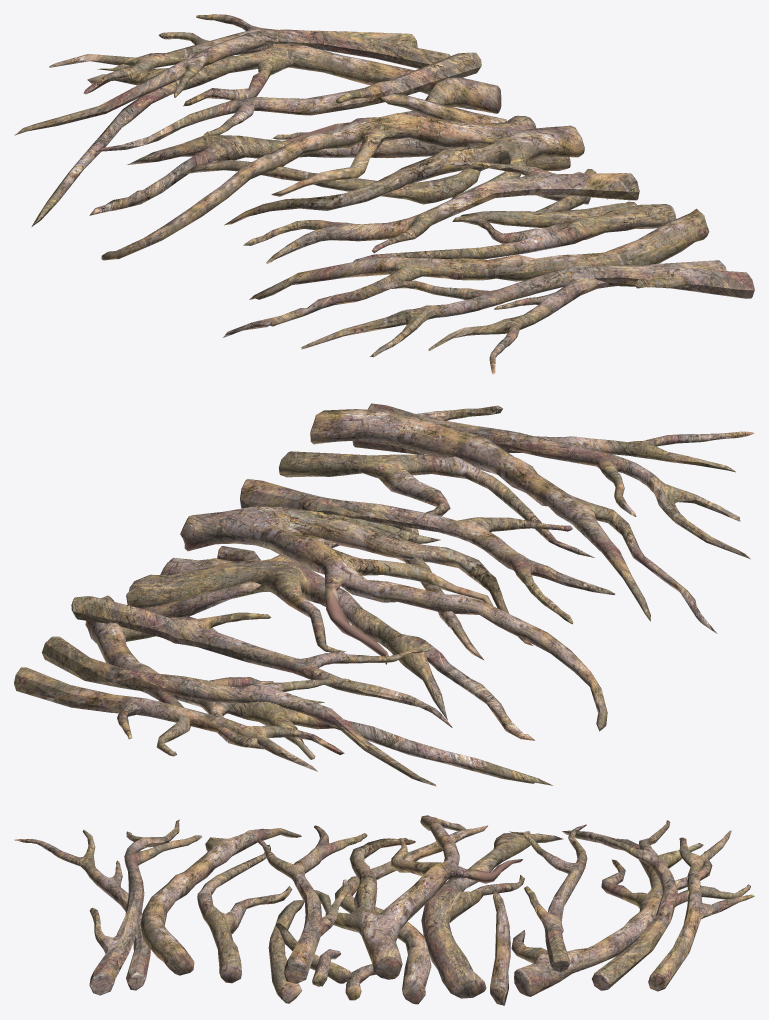
The model's file is SM_HollowInteriorRoots_04.fbx.
3 views of the same model, one above another, from view 1: azimuth 30°, elevation 25°; view 2: azimuth 150°, elevation 25°; view 3: azimuth 270°, elevation 25° (orthographic). The views are drawn at different scales.
Visible parts, largest first — view 1: SM_HollowInteriorRoots_04; view 2: SM_HollowInteriorRoots_04; view 3: SM_HollowInteriorRoots_04.
Part boxes in pixels (x1,y1,x2,y2): SM_HollowInteriorRoots_04: (14,14,754,374); SM_HollowInteriorRoots_04: (14,403,754,786); SM_HollowInteriorRoots_04: (14,815,754,1005).
Bounding box in the file's own units: 248 × 417 × 51.14.
1 material, 1 textured.
